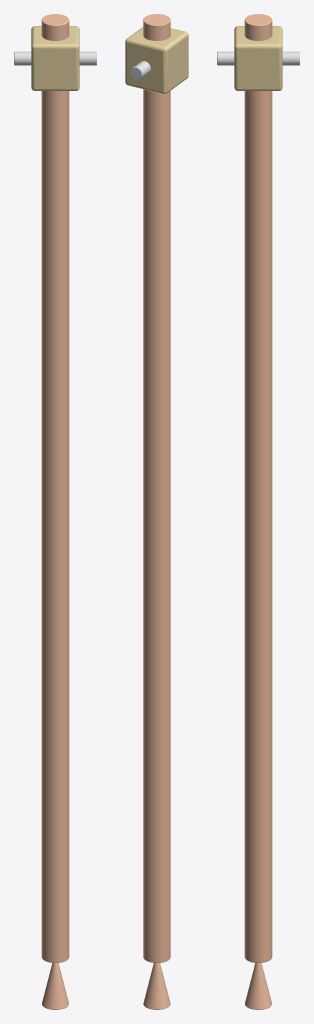
Rendered from earth_rod.glb.
The picture shows the model from 3 angles, left to right: view 1: azimuth 90°, elevation 25°; view 2: azimuth 150°, elevation 25°; view 3: azimuth 270°, elevation 25°; orthographic projection.
Parts seen in each view (by area): view 1: rod, clamp; view 2: rod, clamp; view 3: rod, clamp.
Boxes of the visible parts, x1,y1,x2,y2 form: rod: (41,14,69,1009); clamp: (14,26,96,90); rod: (143,14,170,1009); clamp: (125,27,188,94); rod: (244,14,272,1009); clamp: (217,26,299,90).
Bounding box in the file's own units: 0.028 × 0.63 × 0.048.
